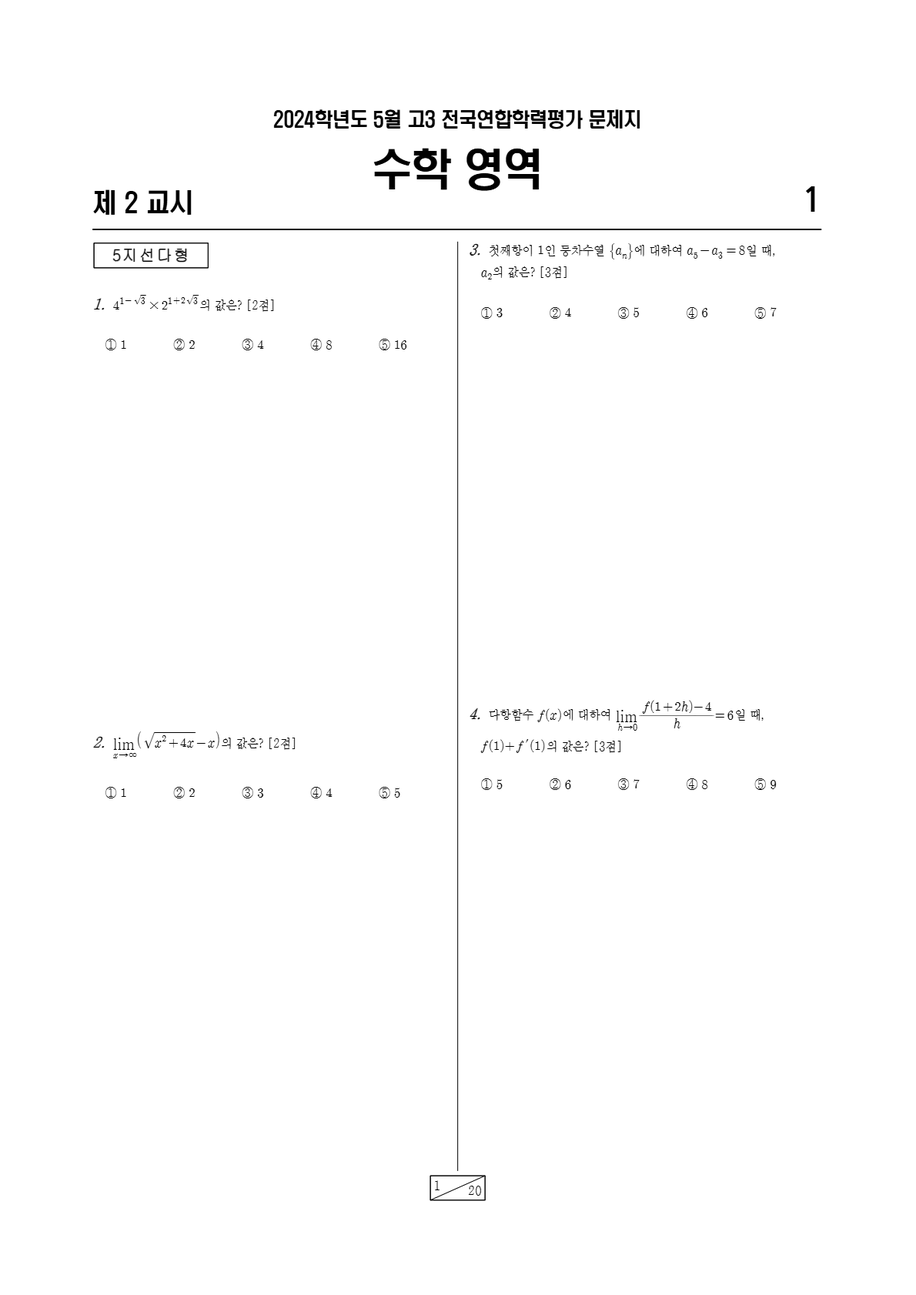opt_1: (480, 306, 492, 319), (480, 777, 492, 790), (105, 337, 116, 350), (105, 785, 115, 798)
opt_2: (172, 338, 185, 350), (172, 786, 185, 798), (549, 777, 561, 790), (549, 307, 560, 319)
opt_3: (616, 775, 630, 791), (241, 337, 253, 351), (617, 306, 629, 320), (242, 785, 253, 798)
opt_4: (685, 776, 698, 790), (309, 337, 322, 350), (309, 785, 322, 798), (686, 306, 697, 319)
opt_5: (378, 337, 390, 350), (378, 785, 390, 798), (754, 777, 766, 790), (754, 306, 765, 319)
